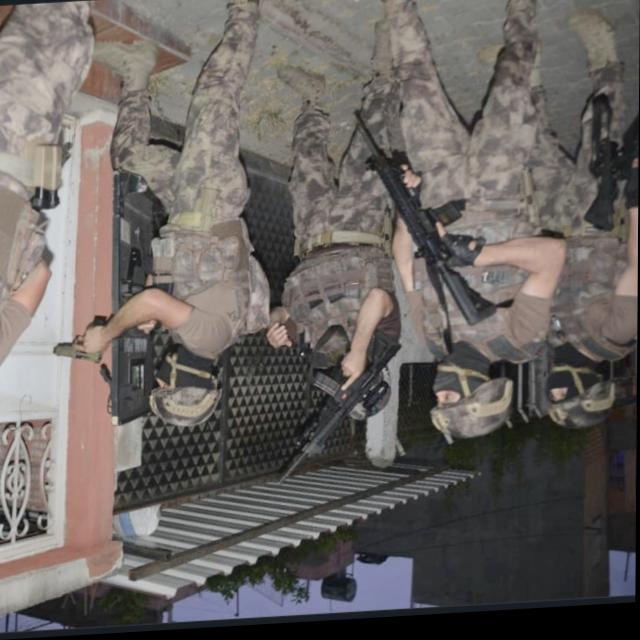poh_personel: (371, 0, 567, 452), (88, 0, 272, 433), (270, 64, 400, 432), (533, 19, 637, 436)
